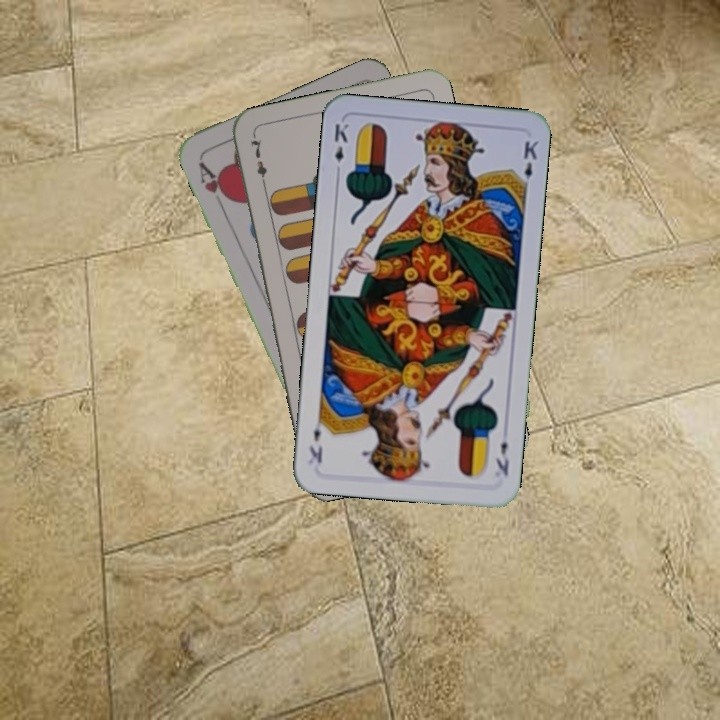E7: (246, 132, 270, 191)
EK: (330, 119, 351, 178), (492, 437, 512, 478)
HA: (194, 158, 233, 212)
